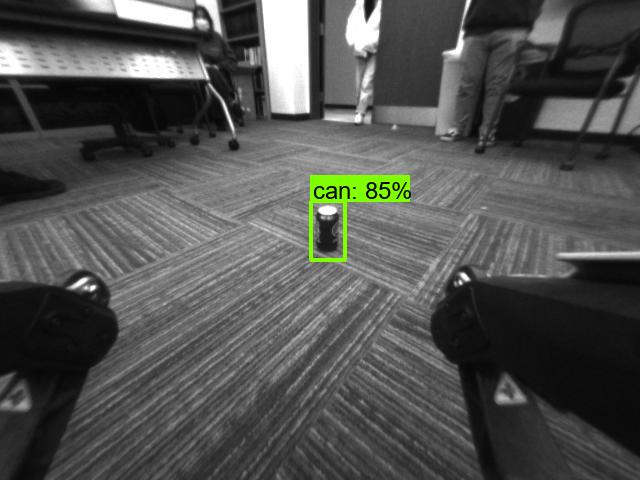can: (311, 204, 342, 256)
